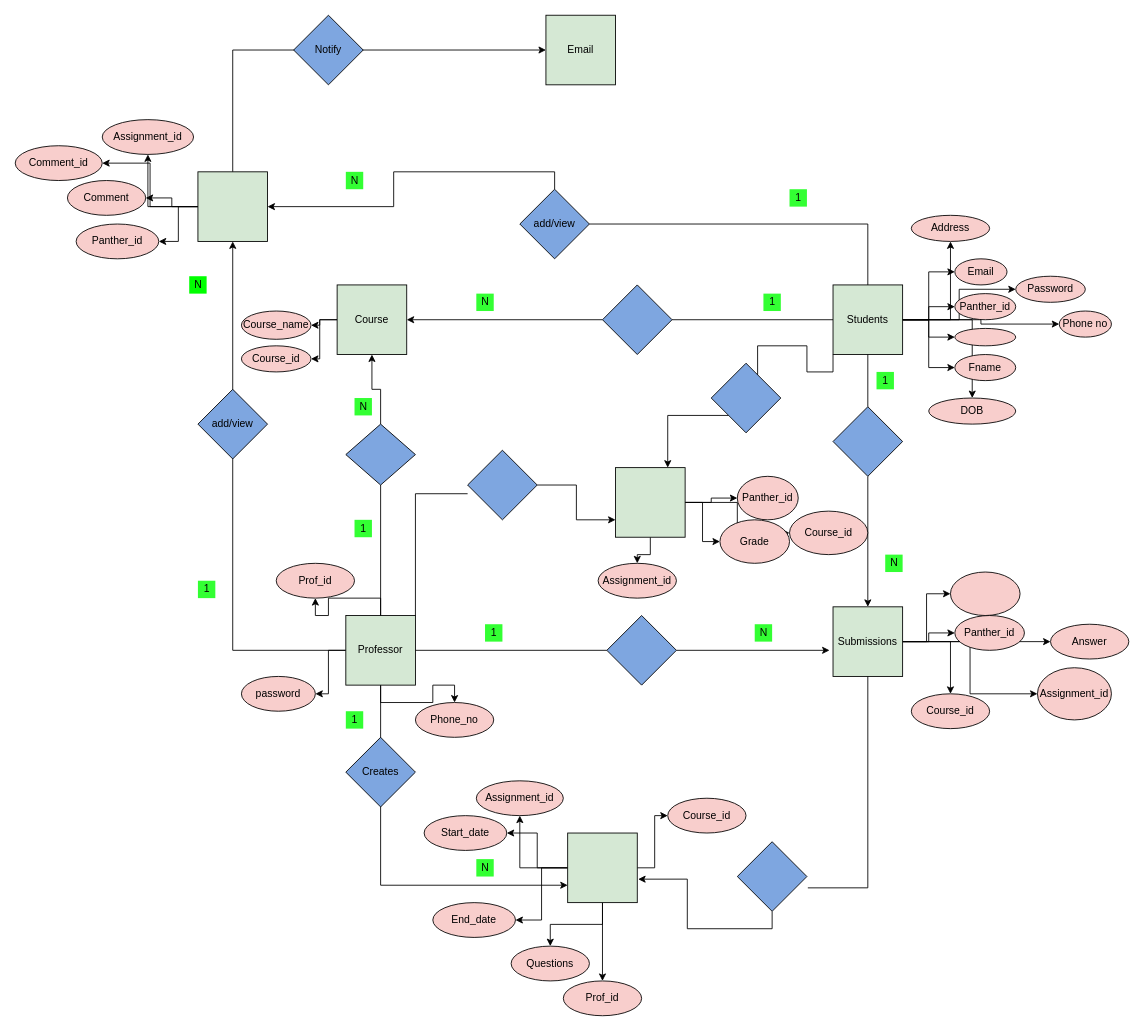
Some shapes in this 1144 by 1031 pixel diagram are drawn without their labels. The shapes that lost their labels are listed below. From the top down, each one's box as (x1, y1, x2, y2) in pixels, then its label:
(197, 171, 268, 241): Comments
(602, 284, 672, 355): Enroll
(954, 328, 1016, 346): Lname
(710, 362, 781, 433): views
(345, 423, 415, 485): Teaches
(832, 406, 903, 476): Submit/view
(467, 449, 537, 520): updates
(615, 467, 685, 537): Grades
(950, 571, 1020, 616): Submission_id
(606, 615, 676, 685): view
(567, 832, 637, 903): Assignment
(736, 841, 807, 911): Has
